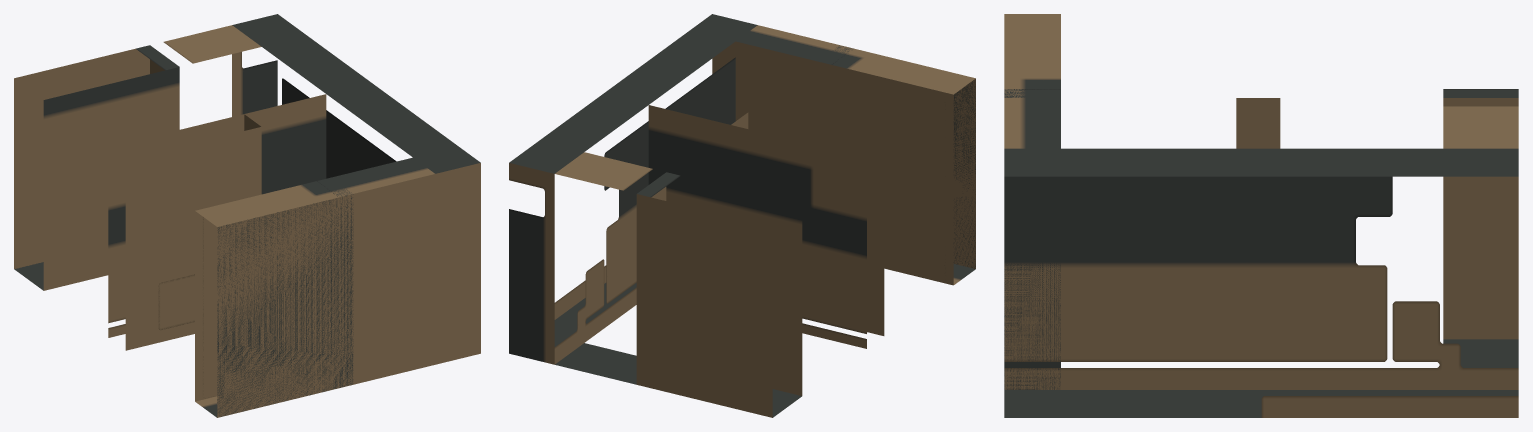
File: section-5.obj
The picture shows the model from 3 angles, left to right: view 1: azimuth 30°, elevation 25°; view 2: azimuth 150°, elevation 25°; view 3: azimuth 270°, elevation 25°; orthographic projection. The views are drawn at different scales.
Size of the model in its own units: 0.5656 by 0.3912 by 0.7552.
